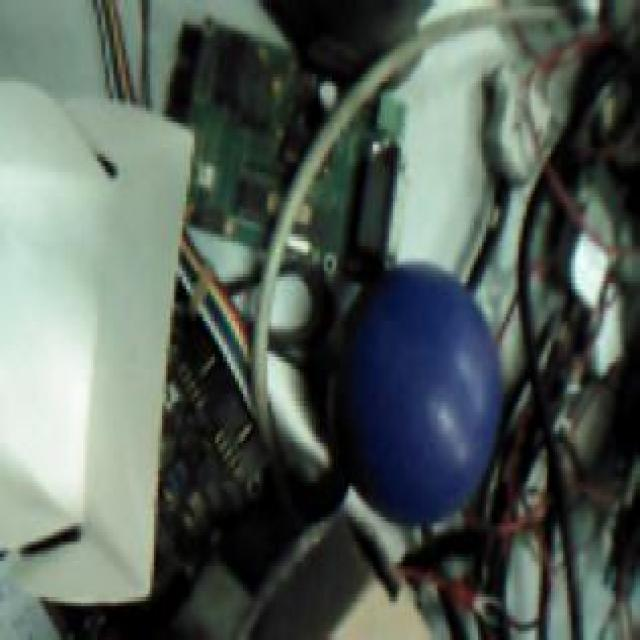BallPurple: (338, 265, 502, 522)
